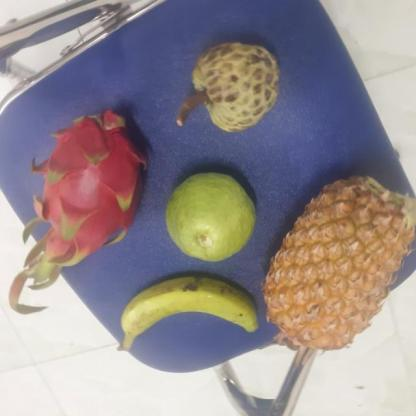annona: (186, 42, 288, 130)
banana: (122, 272, 270, 368)
guava: (165, 172, 263, 260)
pineapple: (266, 174, 416, 345)
pitaya: (33, 109, 155, 267)
